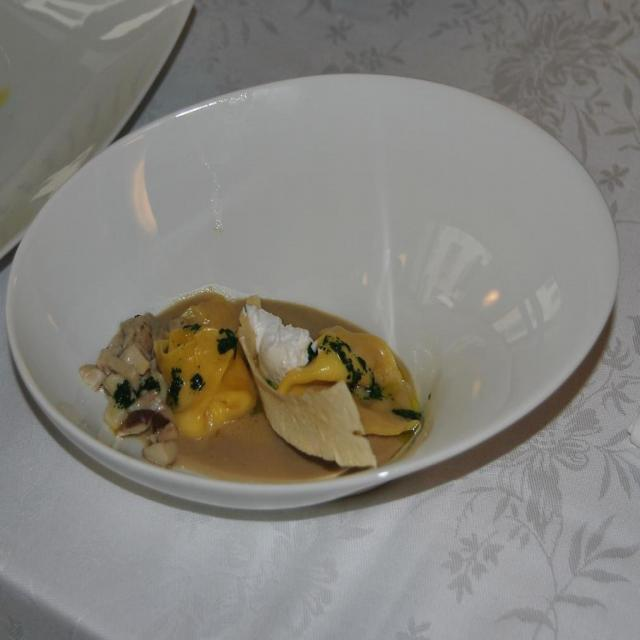non-organic waste: (0, 70, 640, 577)
